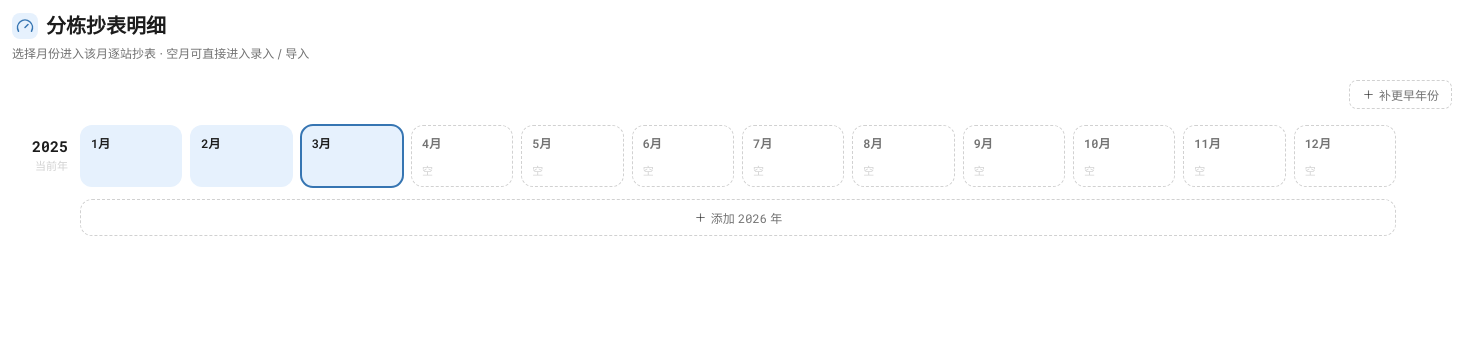
Test: 光伏分栋抄表 · 选期动线 › ❗换月取数失败 → 说出来 + 清空，不许「新期标题 + 上一期数字」
The width and height of the screenshot is (1464, 344).
Click the button with class "bmm-card" showing "3月": coordinates (352, 156) [301, 125, 403, 187]
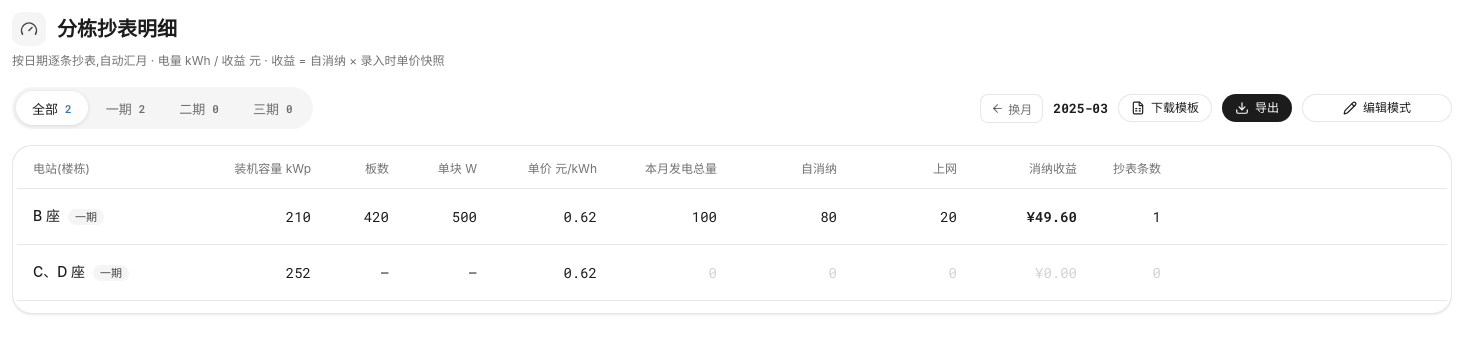
expect the text "2025-03" is shown: met, box [1053, 98, 1108, 118]
Click the button "换月": coordinates (1012, 108) [980, 94, 1043, 122]
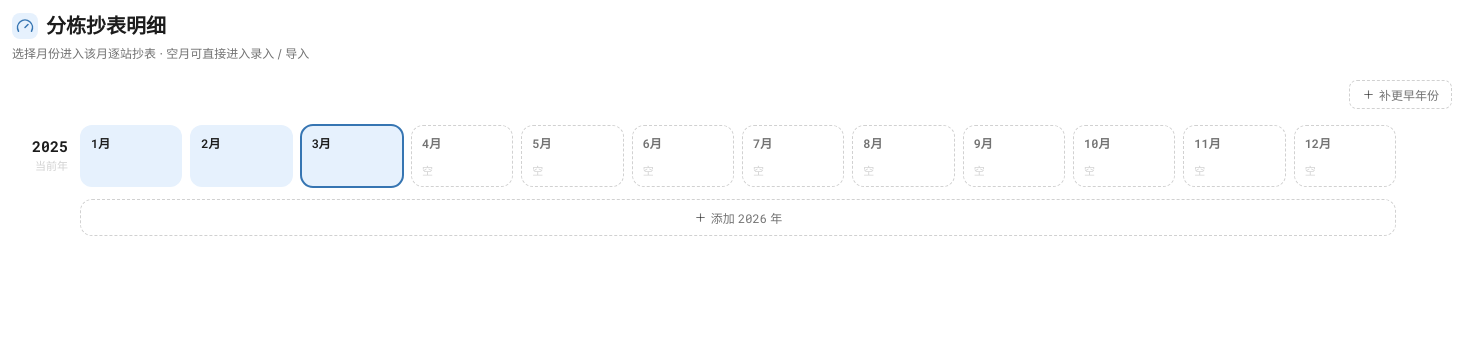
Click the button with class "bmm-card" showing "7月 空": coordinates (793, 156) [742, 125, 844, 187]
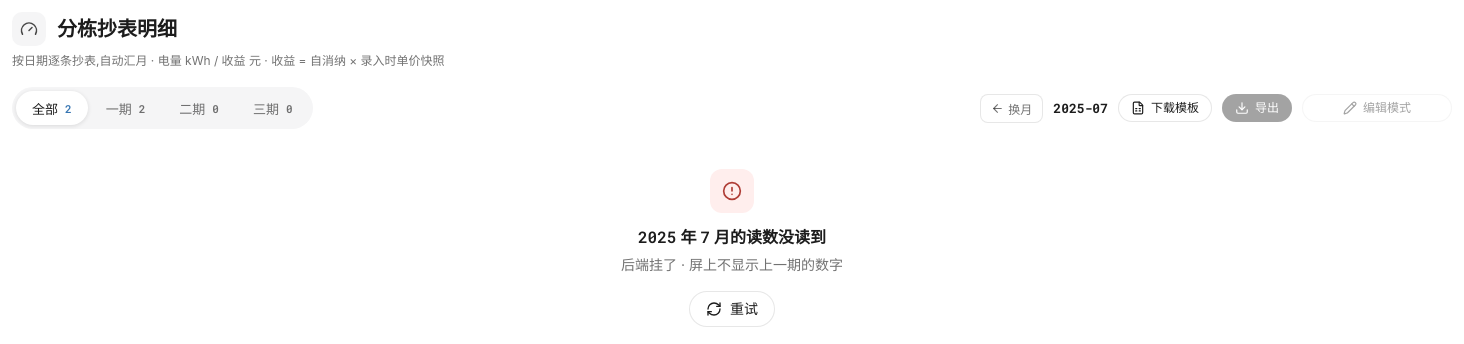
expect the text "2025-07" is shown: met, box [1053, 98, 1108, 118]
expect the message "2025 年 7 月的读数没读到 后端挂了 · 屏上不显示上一期的数字 重试" is shown: met, box [621, 169, 843, 327]
expect the text "后端挂了" is shown: met, box [621, 256, 843, 273]
